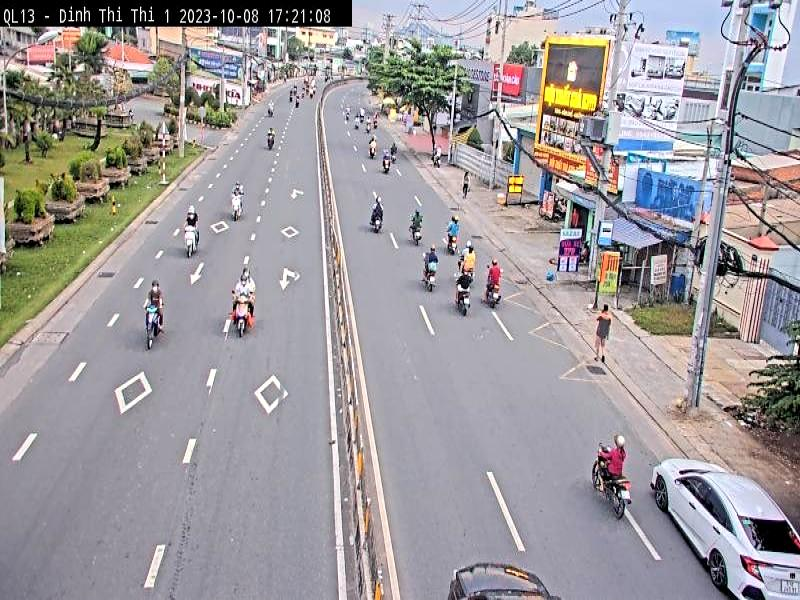car: (651, 453, 800, 600), (450, 562, 554, 600)
motorcycle: (586, 447, 631, 521), (141, 304, 162, 353), (231, 286, 251, 335), (182, 218, 198, 262)
